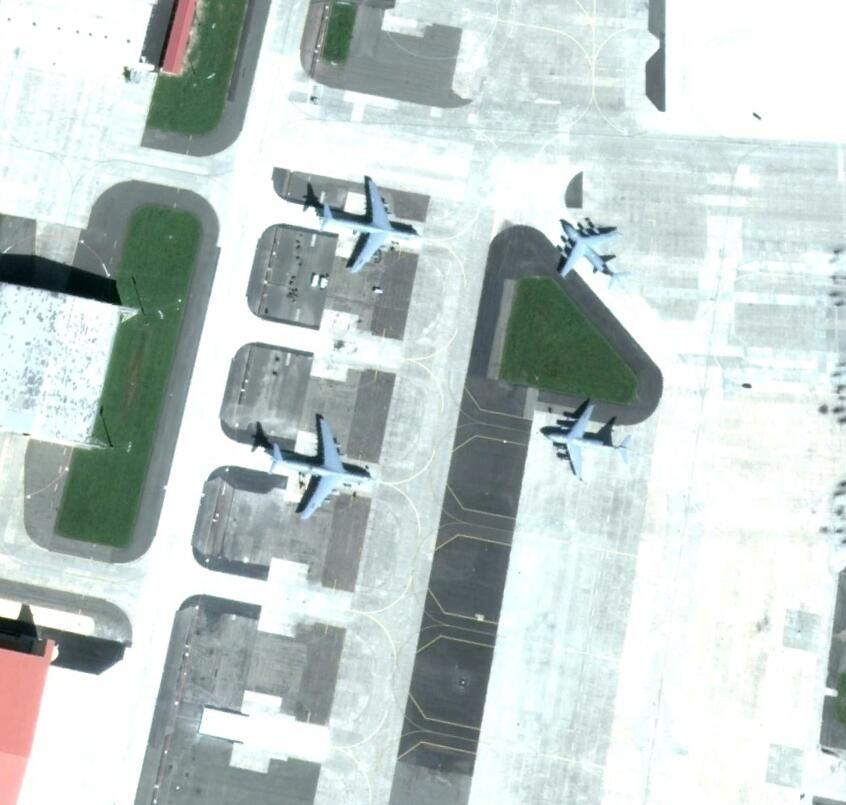A3: (539, 401, 630, 479), (555, 216, 624, 284)
A4: (270, 412, 378, 518), (320, 172, 421, 275)
